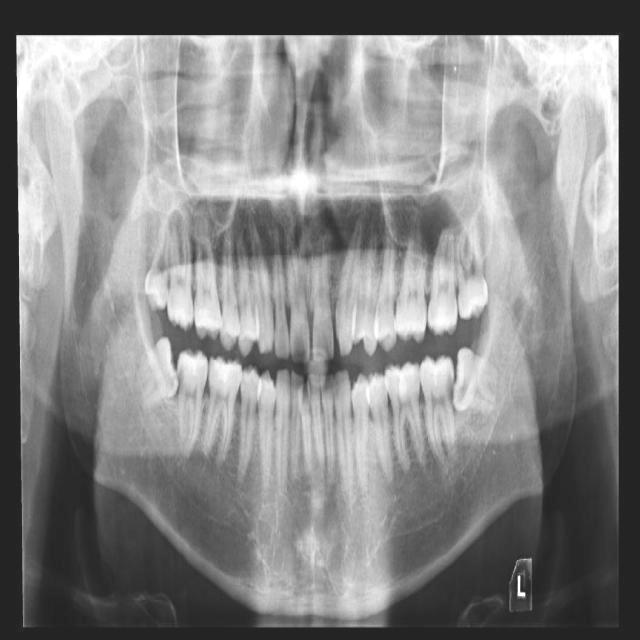Caries: (447, 376, 454, 412), (177, 370, 181, 396)
Filling: (212, 357, 240, 382), (179, 355, 204, 375), (198, 309, 219, 330), (172, 304, 191, 324)
impacted tooth: (135, 337, 177, 412), (453, 346, 503, 409)
